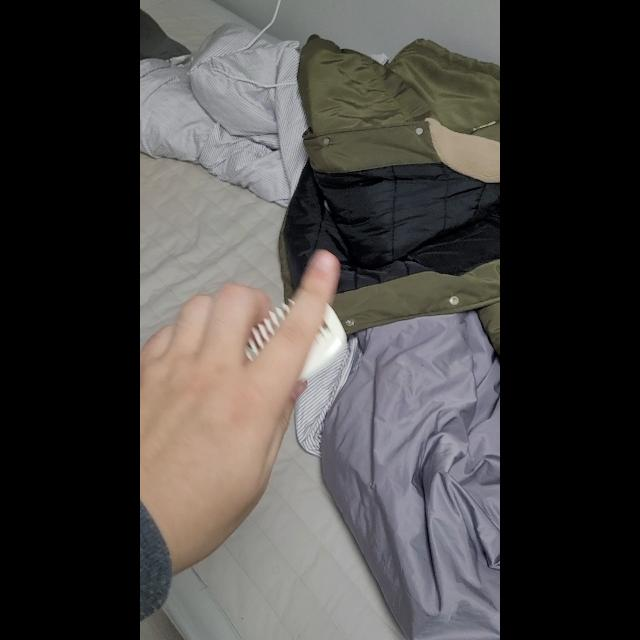COMB: (246, 300, 348, 382)
